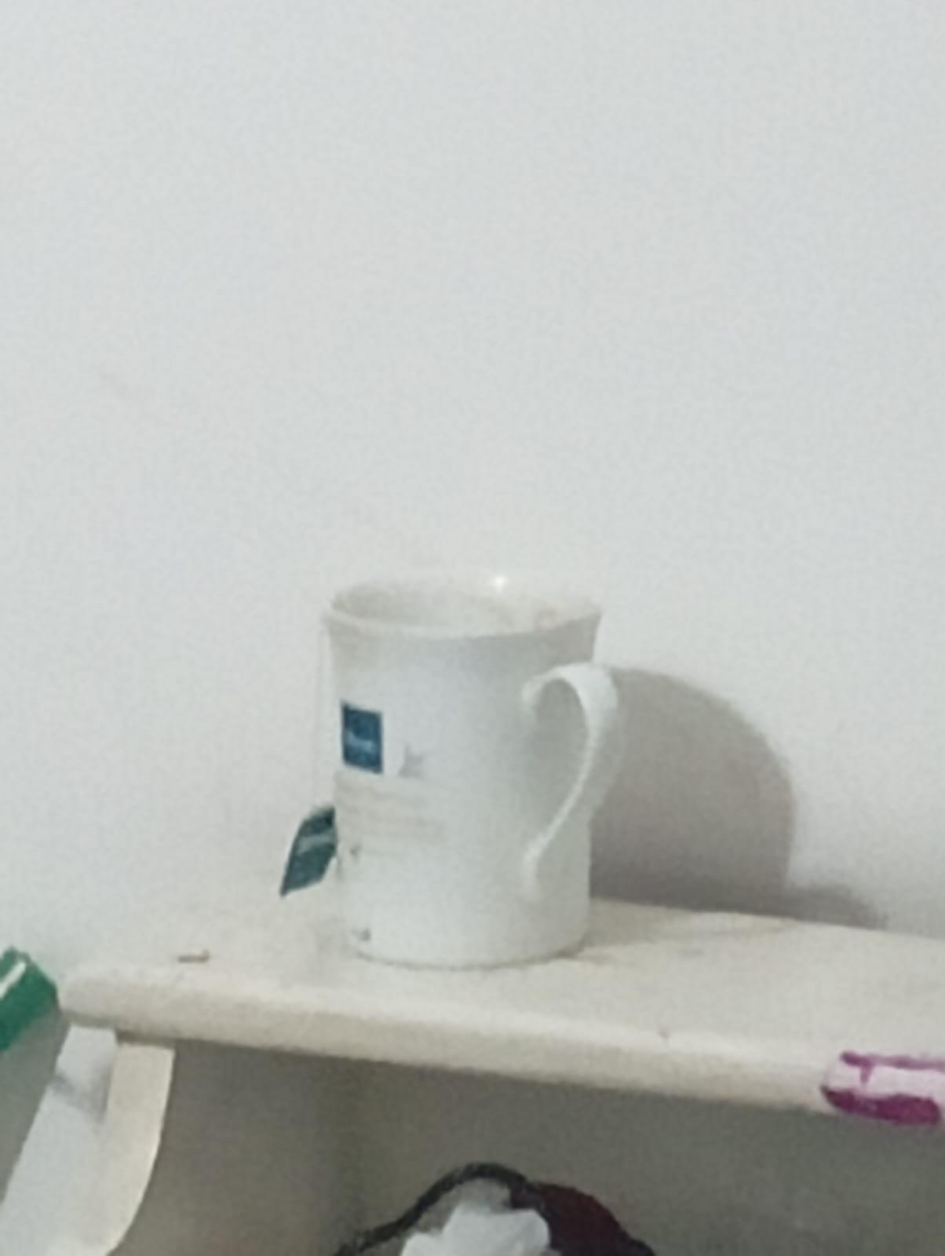cup: (326, 576, 622, 966)
